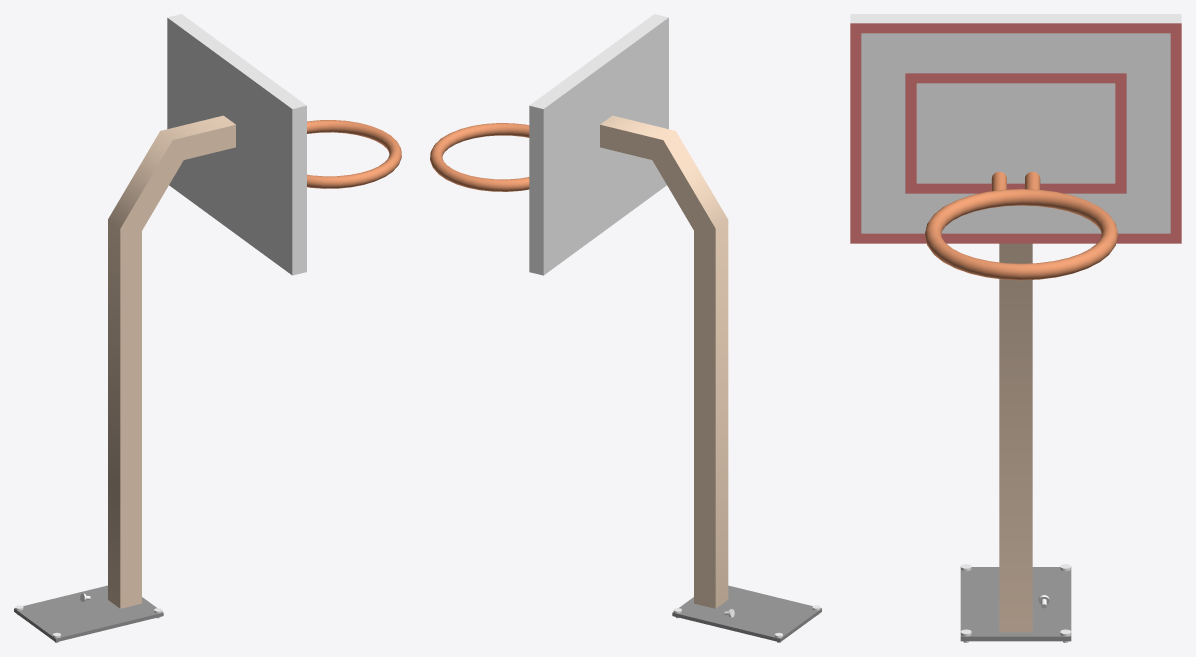
The model's file is hoop.fbx.
3 renders of one model, left to right at view 1: azimuth 30°, elevation 25°; view 2: azimuth 150°, elevation 25°; view 3: azimuth 270°, elevation 25°, orthographic. The views are drawn at different scales.
Parts seen in each view (by area): view 1: Cube_3_5, Sweep_4, Cube_1_6, Torus_2; view 2: Cube_3_5, Sweep_4, Cube_1_6, Torus_2; view 3: Cube_3_5, Sweep_4, Torus_2, Cube_1_6, Cylinder_4_3.
Boxes of the visible parts, x1,y1,x2,y2 form: Cube_3_5: (167, 14, 306, 275); Sweep_4: (108, 115, 235, 608); Cube_1_6: (14, 585, 163, 642); Torus_2: (307, 120, 401, 188); Cube_3_5: (529, 14, 668, 275); Sweep_4: (600, 115, 728, 608); Cube_1_6: (672, 585, 821, 642); Torus_2: (430, 123, 529, 191); Cube_3_5: (850, 14, 1181, 243); Sweep_4: (999, 243, 1032, 632); Torus_2: (924, 189, 1118, 280); Cube_1_6: (960, 567, 1071, 641); Cylinder_4_3: (991, 171, 1040, 191).
Size of the model in its own units: 249 by 342 by 150.
